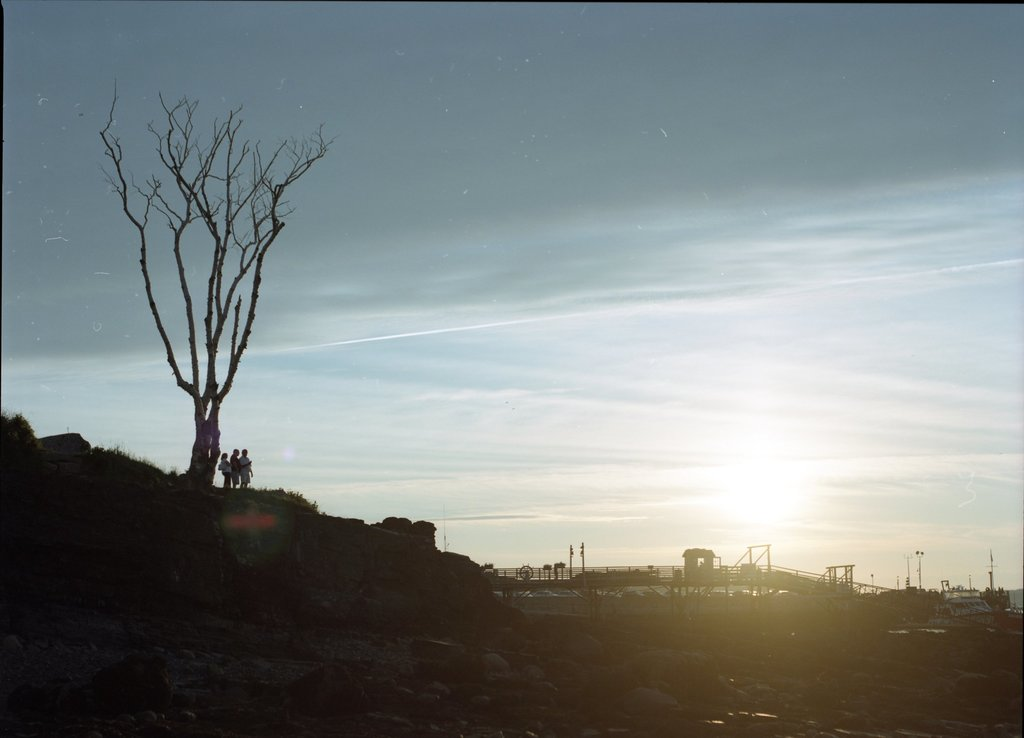Tree: (91, 84, 331, 484)
